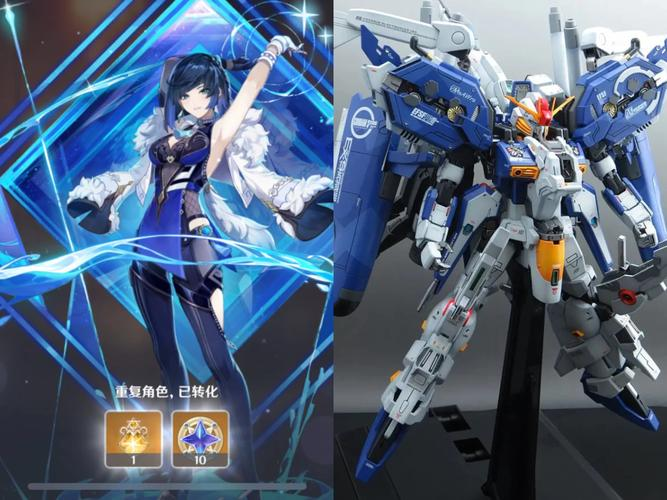夜兰: (131, 28, 312, 488)
